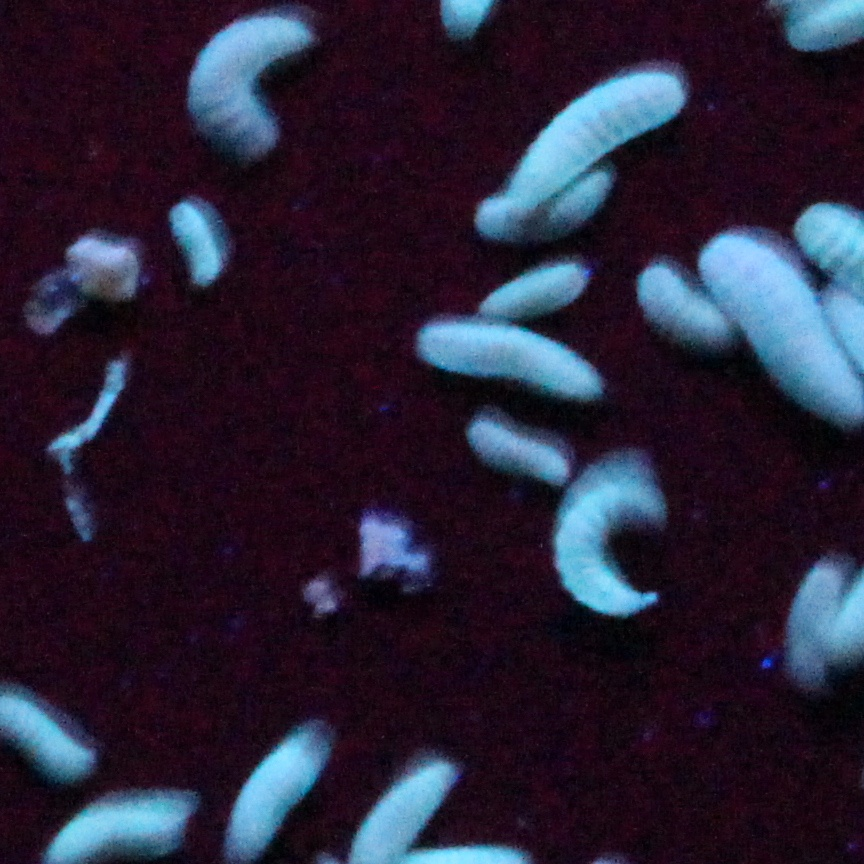larve: (476, 73, 683, 234), (188, 17, 310, 157), (556, 476, 662, 617), (419, 325, 602, 400), (231, 732, 326, 864), (638, 266, 728, 345), (788, 563, 840, 683), (469, 422, 567, 485), (480, 265, 585, 319), (171, 203, 223, 284)
